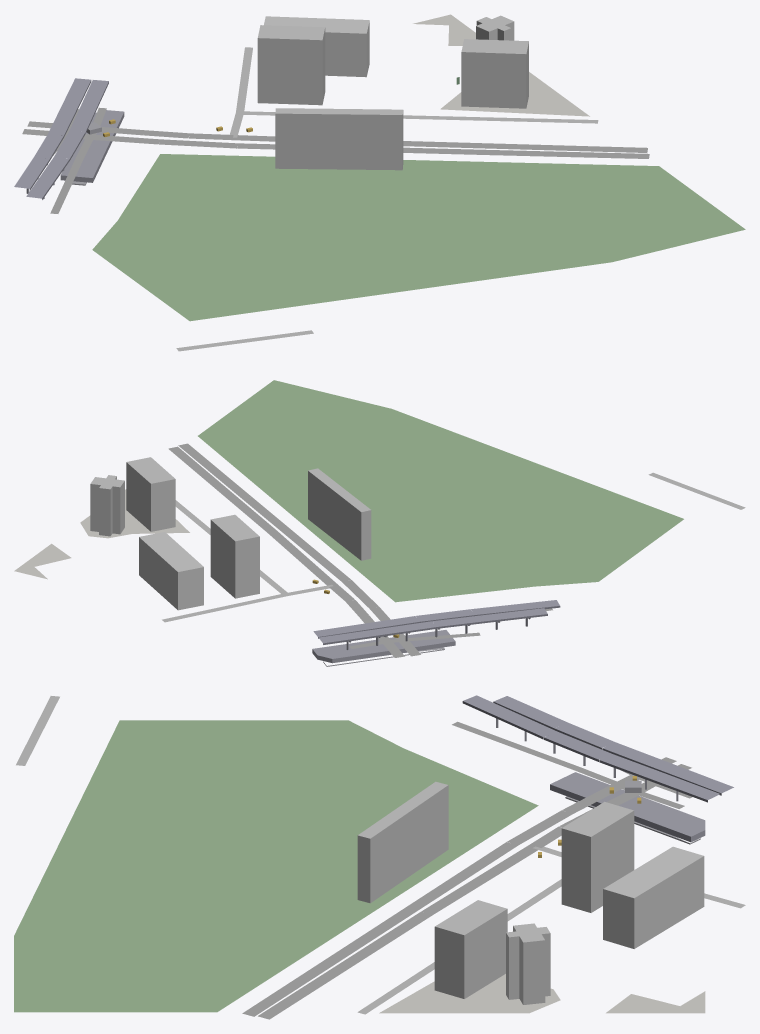
The picture shows the model from 3 angles, top to bottom: view 1: azimuth 30°, elevation 25°; view 2: azimuth 150°, elevation 25°; view 3: azimuth 270°, elevation 25°; orthographic projection. The views are drawn at different scales.
Bounding box in the file's own units: 550 × 83.47 × 529.
